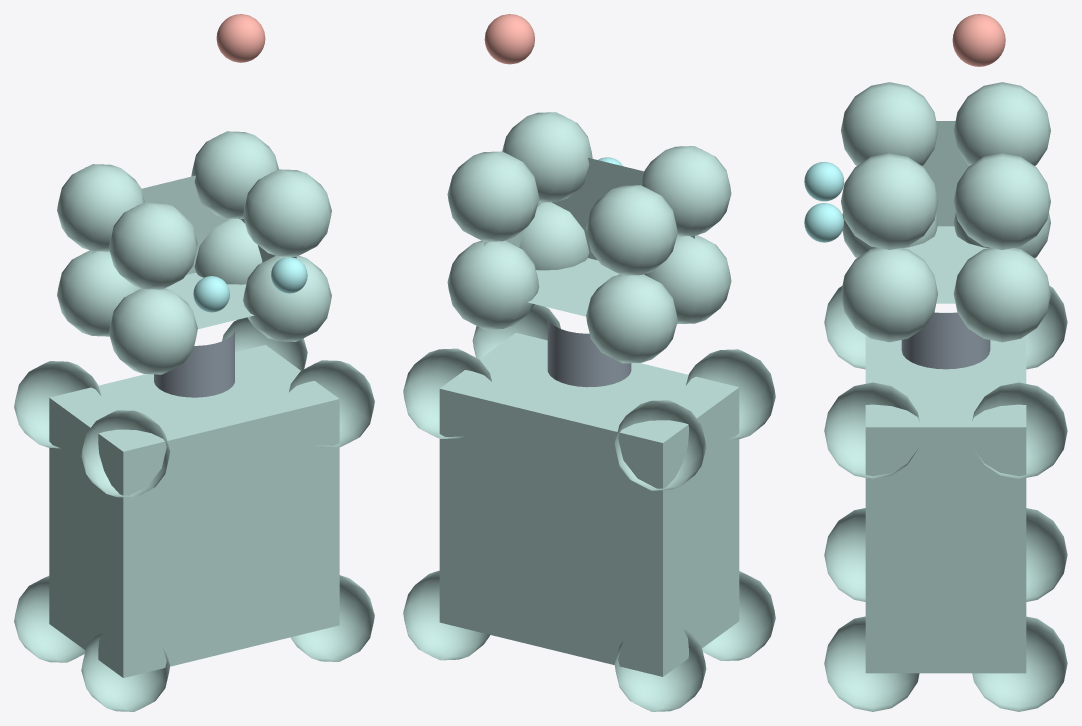
The model's file is robot.glb.
The picture shows the model from 3 angles, left to right: view 1: azimuth 30°, elevation 25°; view 2: azimuth 150°, elevation 25°; view 3: azimuth 270°, elevation 25°; orthographic projection. The views are drawn at different scales.
Visible parts, largest first — view 1: robot; view 2: robot; view 3: robot.
Boxes of the visible parts, x1=… form: robot: x1=14, y1=14, x2=374, y2=711; robot: x1=403, y1=14, x2=775, y2=711; robot: x1=804, y1=14, x2=1067, y2=711.
Bounding box in the file's own units: 1.6 × 3.34 × 1.19.
